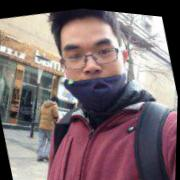WRONG: (57, 25, 135, 118)
